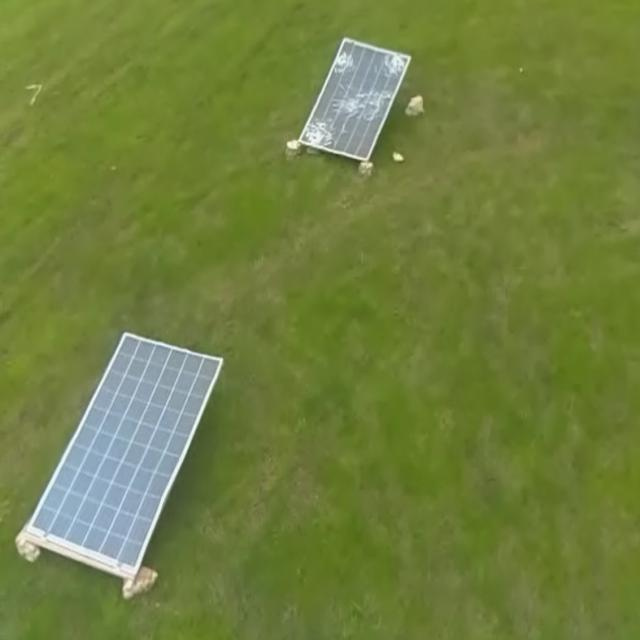faulty: (306, 38, 410, 164)
no faulty: (20, 336, 229, 580)
